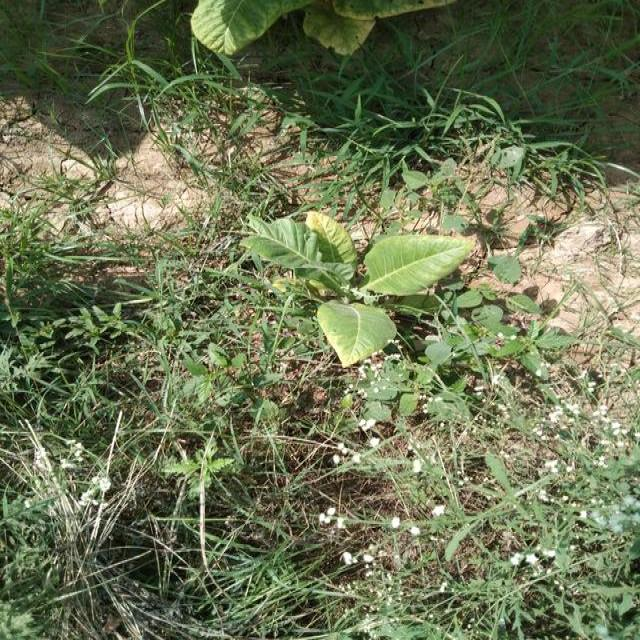crop: (243, 207, 477, 369)
